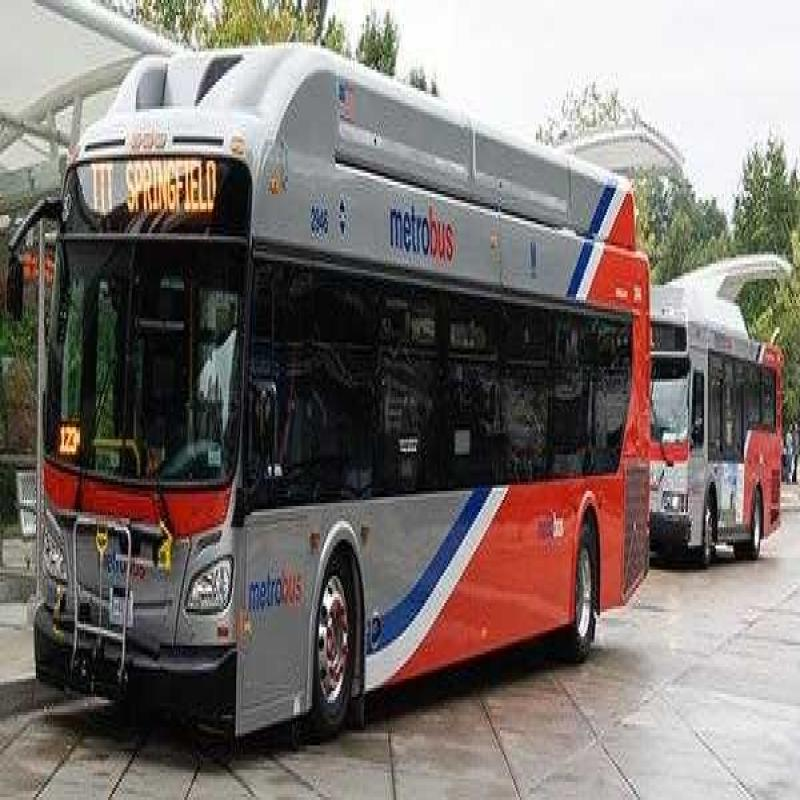bus: (26, 20, 641, 772), (659, 239, 784, 580)
